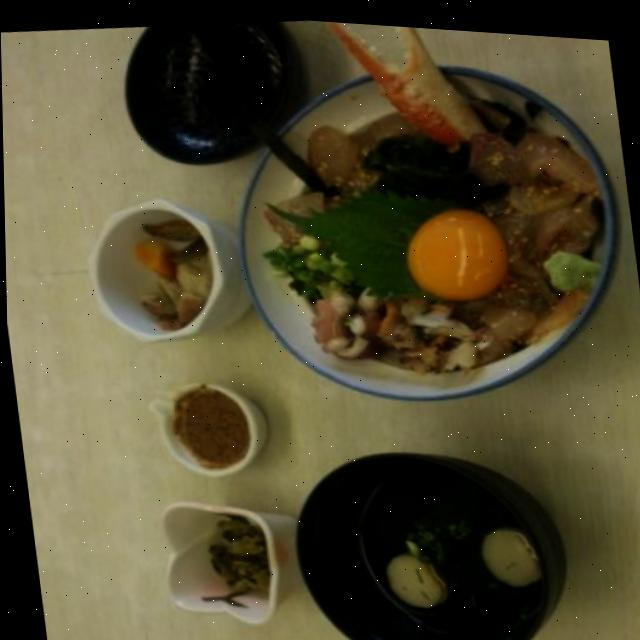刺身生食: (199, 10, 638, 425)
